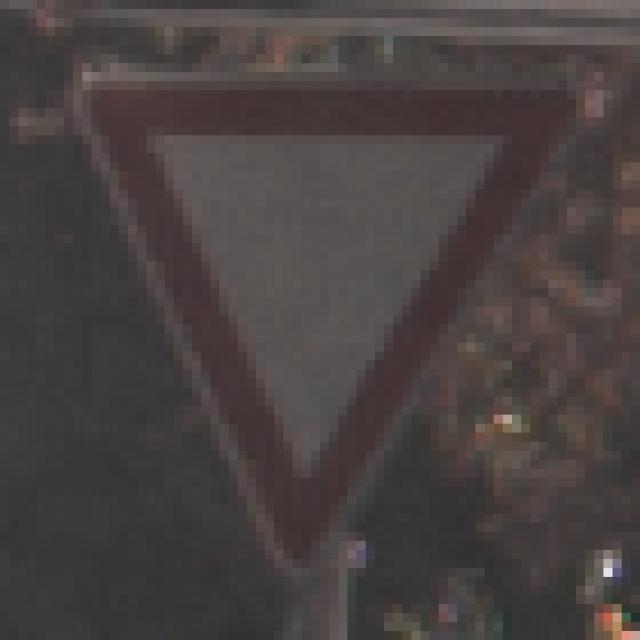Give Way: (65, 55, 577, 578)
